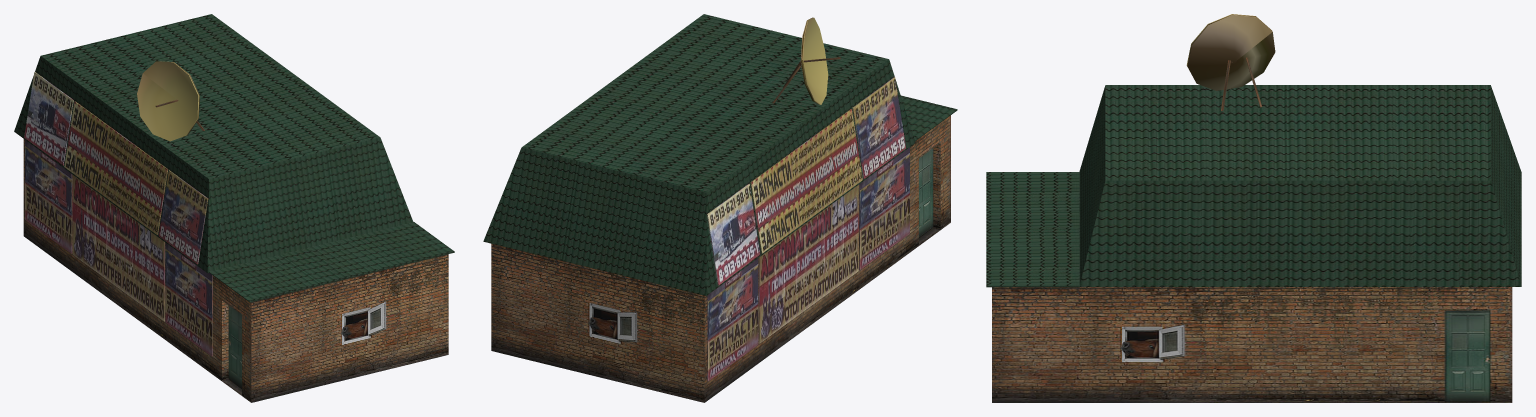
File: r402_krutinka_avtozapchasti.FBX
The picture shows the model from 3 angles, left to right: view 1: azimuth 30°, elevation 25°; view 2: azimuth 150°, elevation 25°; view 3: azimuth 270°, elevation 25°; orthographic projection. The views are drawn at different scales.
Parts seen in each view (by area): view 1: r402_krutinka_avtozapchasti; view 2: r402_krutinka_avtozapchasti; view 3: r402_krutinka_avtozapchasti.
Boxes of the visible parts, x1,y1,x2,y2 form: r402_krutinka_avtozapchasti: [14, 14, 454, 402]; r402_krutinka_avtozapchasti: [483, 14, 957, 402]; r402_krutinka_avtozapchasti: [986, 14, 1521, 402].
Bounding box in the file's own units: 5.26 × 10.29 × 6.24.
